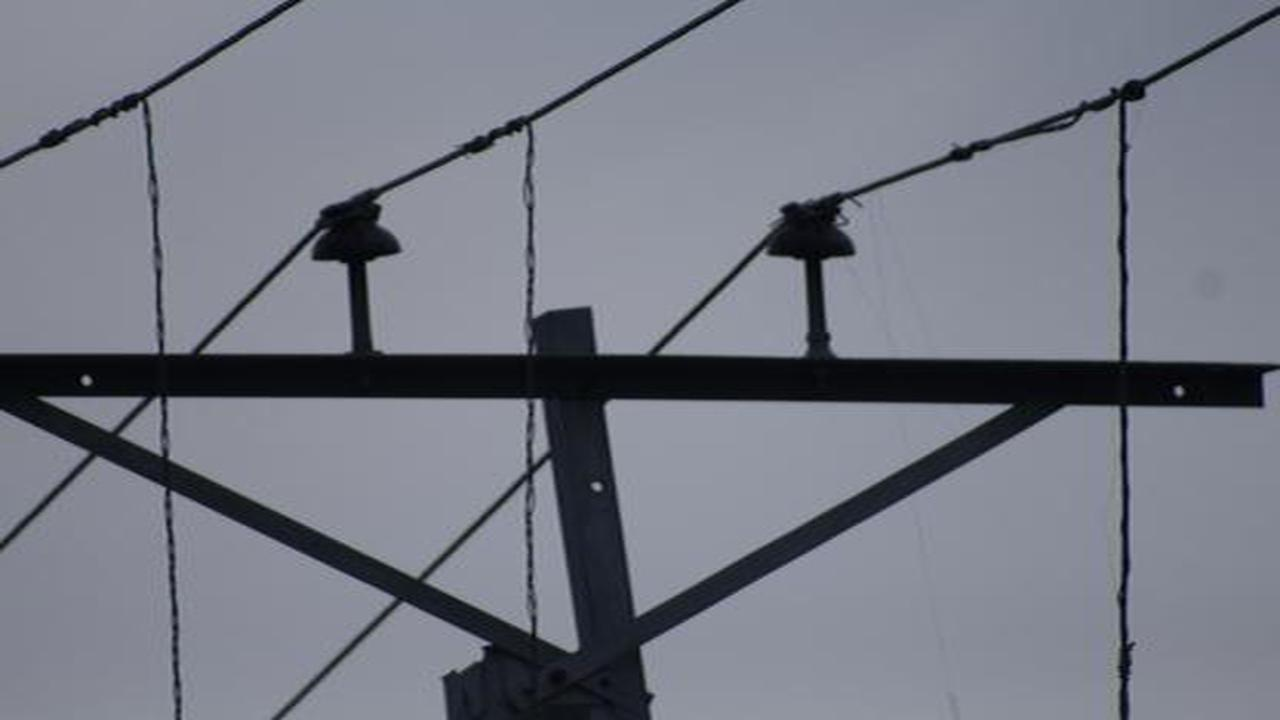insulator_pin: (759, 193, 872, 272), (308, 194, 402, 271)
